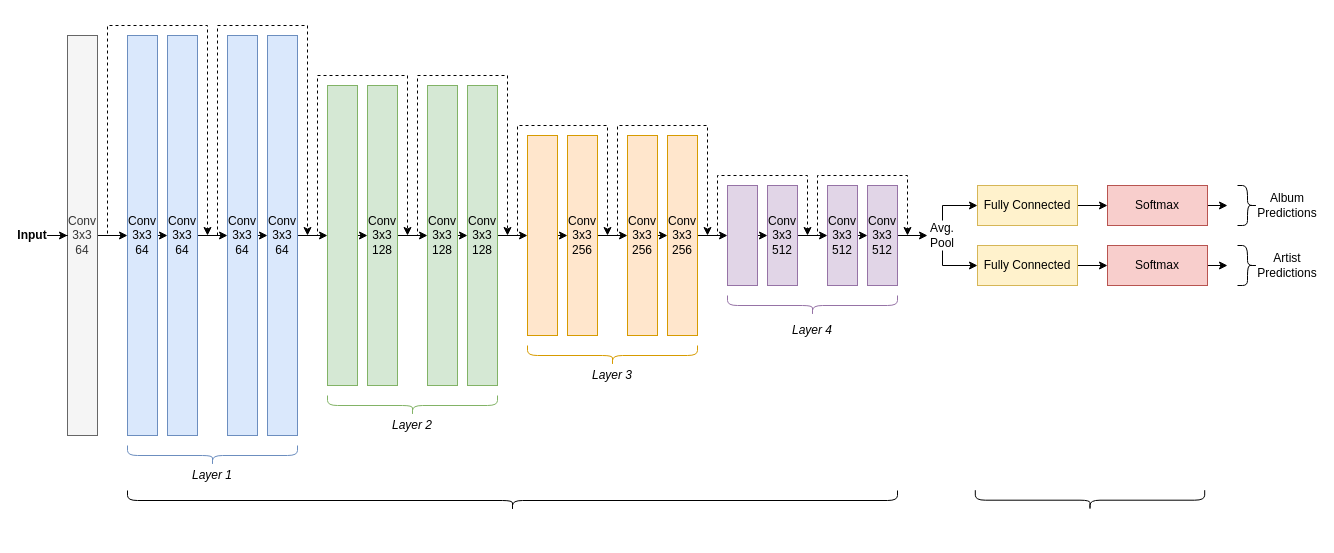
This 1334x553 diagram has some shape labels left out. Here are the shapes that lost their labels. From the top down, the centre of each, then its label:
At (x=342, y=235): "Conv 3x3 128 /2".
At (x=542, y=235): "Conv 3x3 256 /2".
At (x=742, y=235): "Conv 3x3 512 /2".
At (x=512, y=500): "Pretrained / Fine-tuning".
At (x=1089, y=499): "Custom Classifier".
